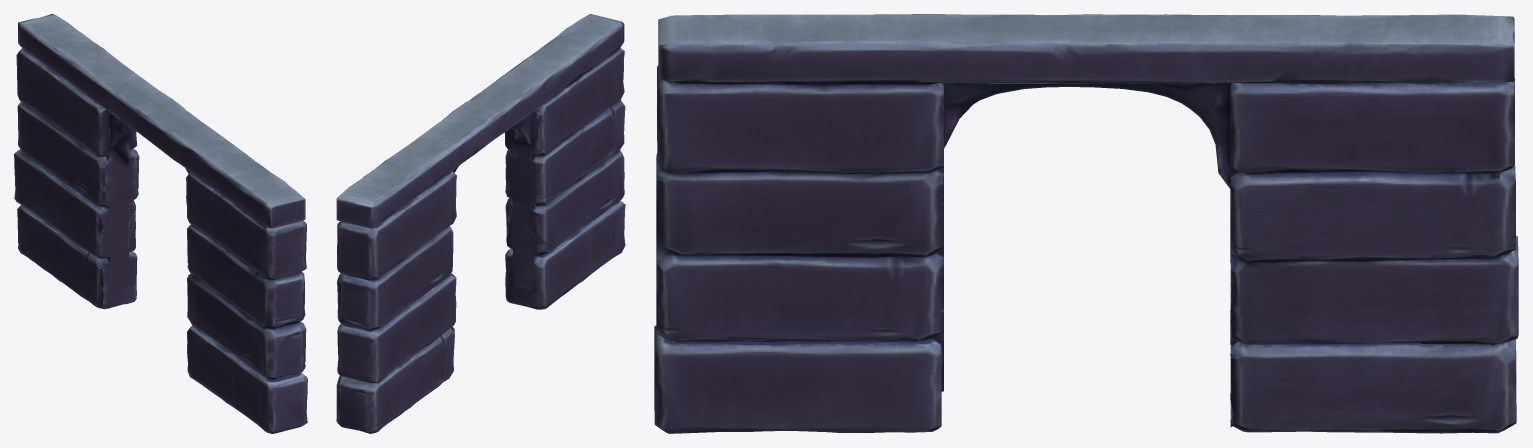
Rendered from Entrance.glb.
The picture shows the model from 3 angles, left to right: view 1: azimuth 30°, elevation 25°; view 2: azimuth 150°, elevation 25°; view 3: azimuth 270°, elevation 25°; orthographic projection. The views are drawn at different scales.
Visible parts, largest first — view 1: Entrance; view 2: Entrance; view 3: Entrance.
Boxes of the visible parts, left/top/right/bottom form: Entrance: left=14, top=14, right=307, bottom=433; Entrance: left=336, top=14, right=625, bottom=433; Entrance: left=654, top=14, right=1518, bottom=433.
Bounding box in the file's own units: 2 × 10 × 20.
1 material, 1 textured.
